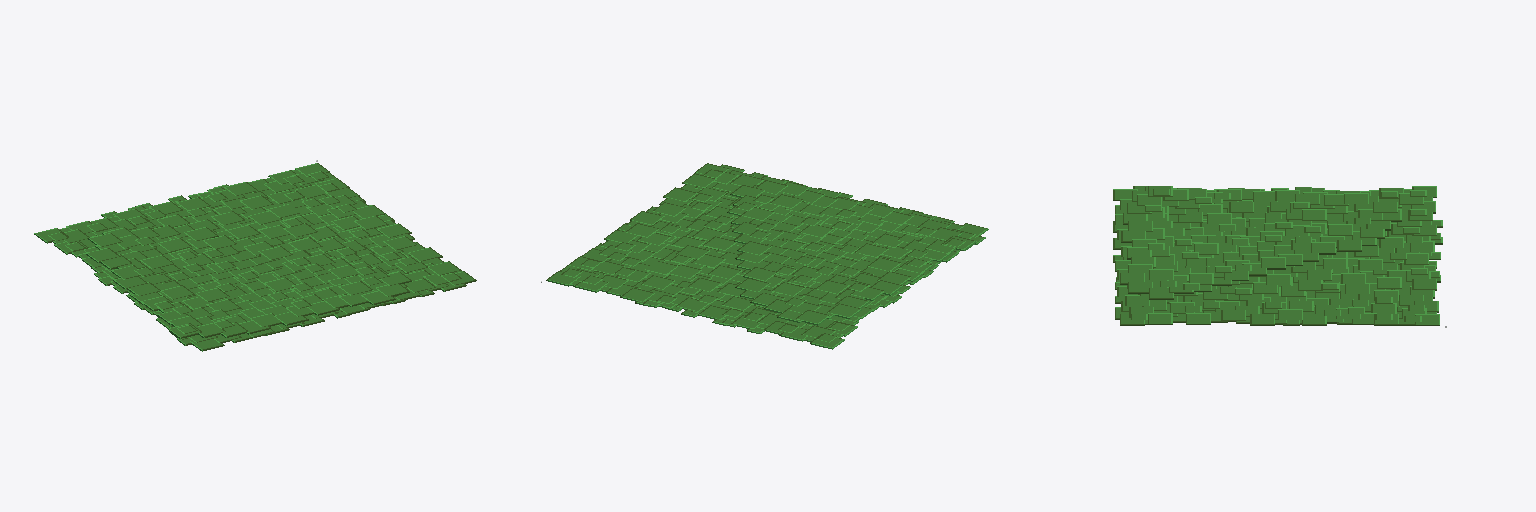
3 views of the same model, side by side, from view 1: azimuth 30°, elevation 25°; view 2: azimuth 150°, elevation 25°; view 3: azimuth 270°, elevation 25° (orthographic).
Visible parts, largest first — view 1: object 1; view 2: object 1; view 3: object 1.
Boxes of the visible parts, x1,y1,x2,y2 form: object 1: [34, 160, 476, 351]; object 1: [541, 163, 988, 349]; object 1: [1113, 186, 1446, 327].
Size of the model in its own units: 25.3 by 0.2 by 25.3.
1 materials, 1 textured.